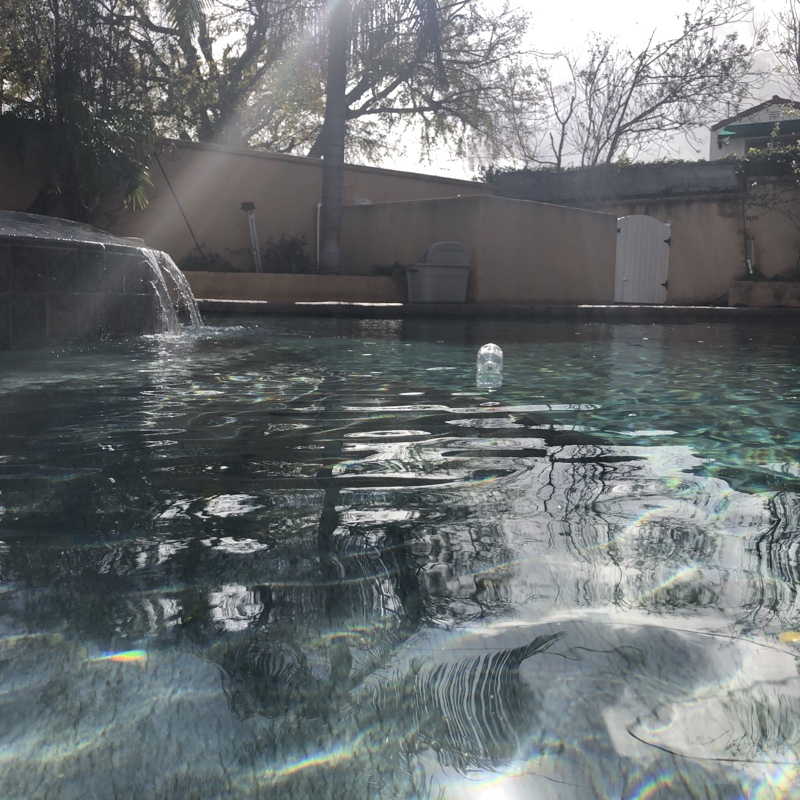Plastic Bottle: (475, 341, 505, 384)
